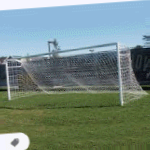goals: (4, 42, 149, 106)
